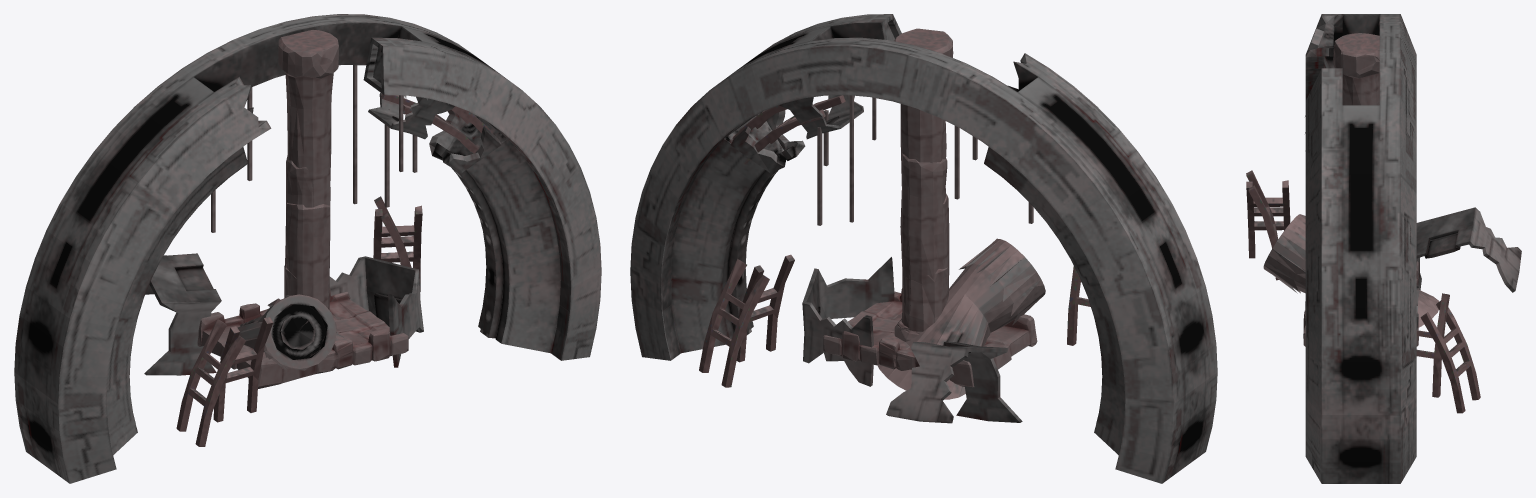
Rendered from Ruins.fbx.
3 renders of one model, left to right at view 1: azimuth 30°, elevation 25°; view 2: azimuth 150°, elevation 25°; view 3: azimuth 270°, elevation 25°, orthographic. The views are drawn at different scales.
Visible parts, largest first — view 1: CrashSite, Ruin-4, Ruin-6, Ruin-2, Ruin-3; view 2: CrashSite, Ruin-6, Ruin-3, Ruin-4, Ruin-1; view 3: CrashSite, Ruin-4.
Part boxes in pixels (x1=…): CrashSite: x1=14, y1=14, x2=601, y2=483; Ruin-4: x1=278, y1=29, x2=338, y2=332; Ruin-6: x1=197, y1=288, x2=408, y2=388; Ruin-2: x1=286, y1=202, x2=336, y2=332; Ruin-3: x1=285, y1=149, x2=330, y2=267; CrashSite: x1=630, y1=14, x2=1217, y2=483; Ruin-6: x1=823, y1=288, x2=1037, y2=387; Ruin-3: x1=900, y1=153, x2=947, y2=341; Ruin-4: x1=894, y1=28, x2=953, y2=341; Ruin-1: x1=904, y1=267, x2=948, y2=340; CrashSite: x1=1246, y1=14, x2=1521, y2=483; Ruin-4: x1=1332, y1=33, x2=1379, y2=105.
Size of the model in its own units: 8.09 by 5.22 by 3.95.
1 material, 1 textured.
